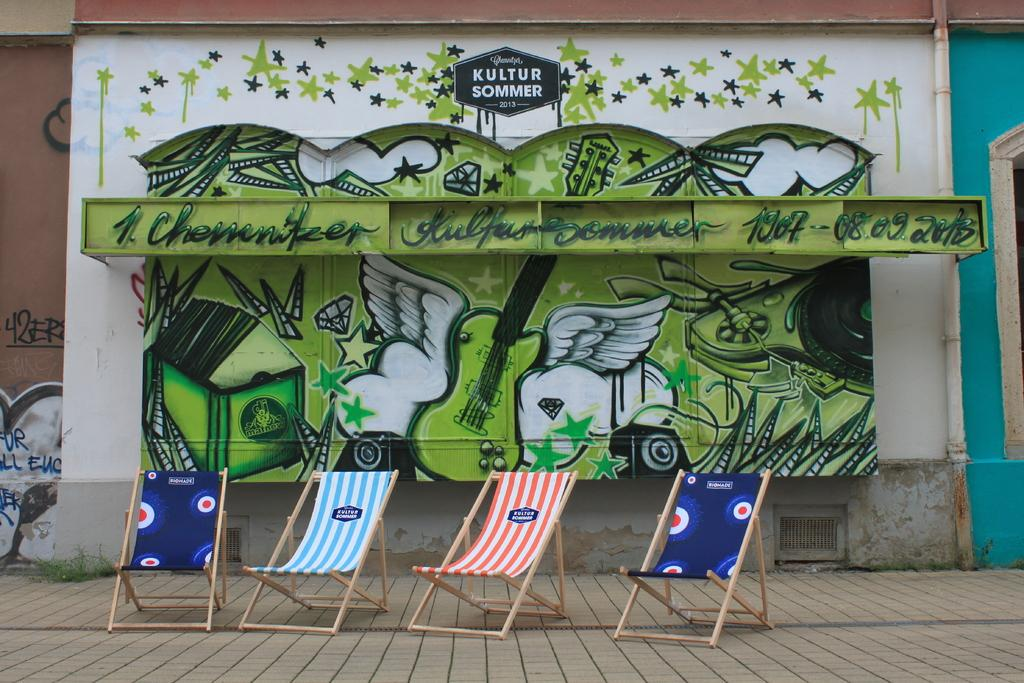Chair: (406, 470, 578, 646), (614, 468, 774, 652), (238, 468, 402, 639), (111, 459, 221, 637)
